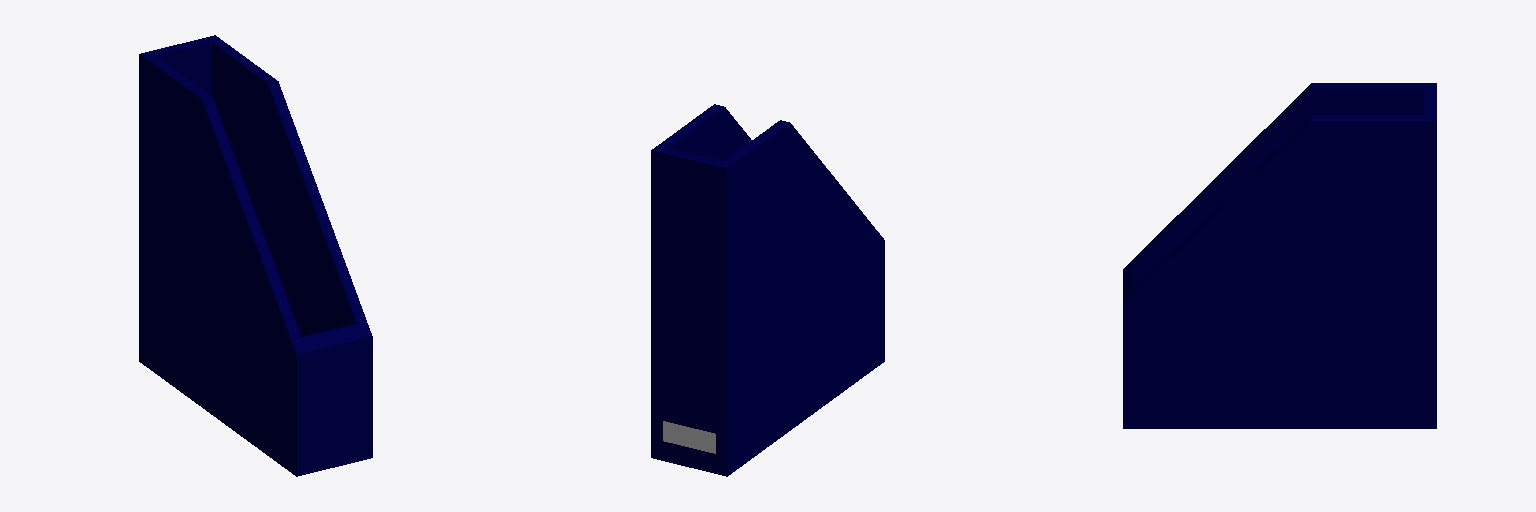
The model's file is Folder_Holder_empty.01.obj.
The picture shows the model from 3 angles: view 1: azimuth 30°, elevation 25°; view 2: azimuth 150°, elevation 25°; view 3: azimuth 270°, elevation 25°; orthographic projection.
Visible parts, largest first — view 1: Folder_Holder_empty.01; view 2: Folder_Holder_empty.01; view 3: Folder_Holder_empty.01.
Boxes of the visible parts, box(x1,y1,x2,y2) form: Folder_Holder_empty.01: box(139, 35, 372, 476); Folder_Holder_empty.01: box(651, 104, 884, 476); Folder_Holder_empty.01: box(1123, 83, 1436, 428).
Bounding box in the file's own units: 0.0918 × 0.3556 × 0.3286.